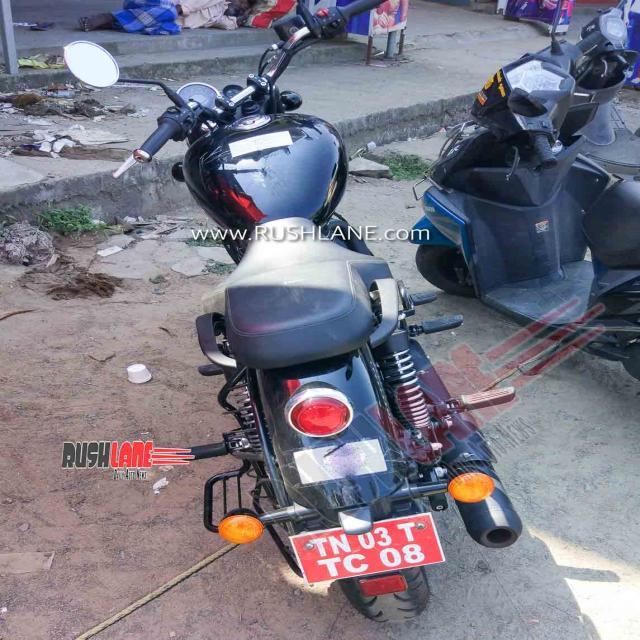license_plate: (287, 511, 445, 585)
